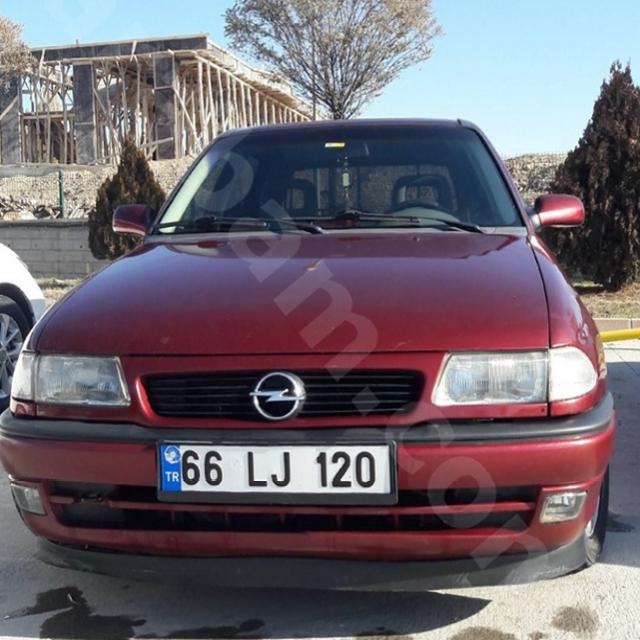license_plate: (155, 439, 394, 496)
